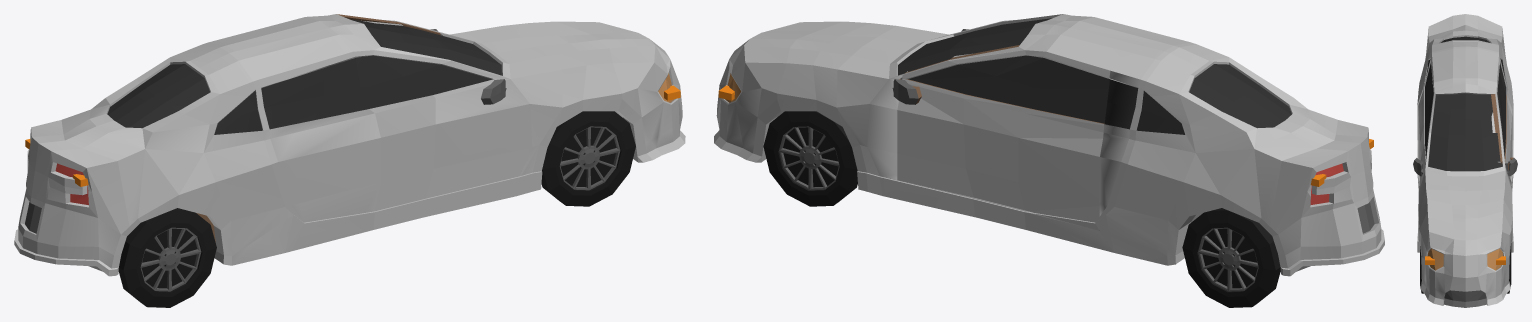
The model's file is sports_car_1.glb.
3 renders of one model, left to right at view 1: azimuth 30°, elevation 25°; view 2: azimuth 150°, elevation 25°; view 3: azimuth 270°, elevation 25°, orthographic. The views are drawn at different scales.
Parts seen in each view (by area): view 1: SportsCar2_Cube.006, Wheels, Wheel.001; view 2: SportsCar2_Cube.006, DriverDoor, Wheels, Wheel; view 3: SportsCar2_Cube.006, DriverDoor, Wheel.
Boxes of the visible parts, x1,y1,x2,y2 form: SportsCar2_Cube.006: (14, 14, 685, 276); Wheels: (118, 208, 216, 307); Wheel.001: (541, 111, 635, 206); SportsCar2_Cube.006: (714, 14, 1384, 276); DriverDoor: (896, 45, 1110, 230); Wheels: (1182, 208, 1280, 307); Wheel: (763, 111, 857, 206); SportsCar2_Cube.006: (1413, 14, 1516, 307); DriverDoor: (1491, 63, 1517, 181); Wheel: (1507, 243, 1511, 293).
Size of the model in its own units: 3.53 by 1.08 by 0.74.
